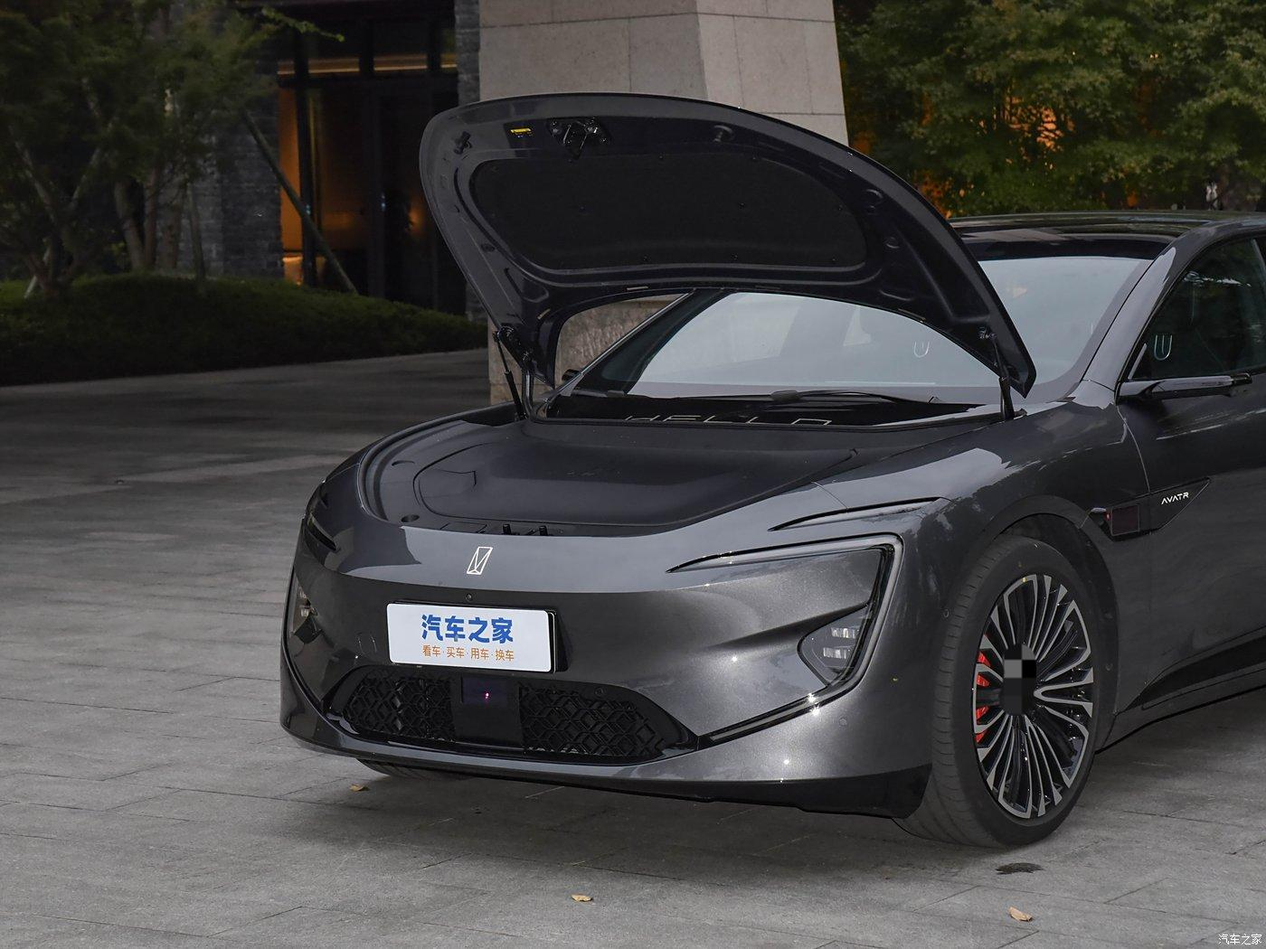AVATR: (468, 547, 492, 575)
